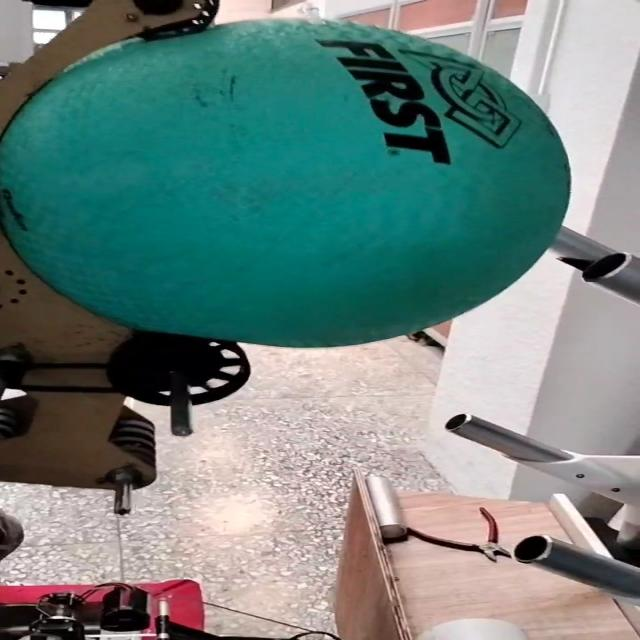ALGAE: (6, 25, 568, 353)
